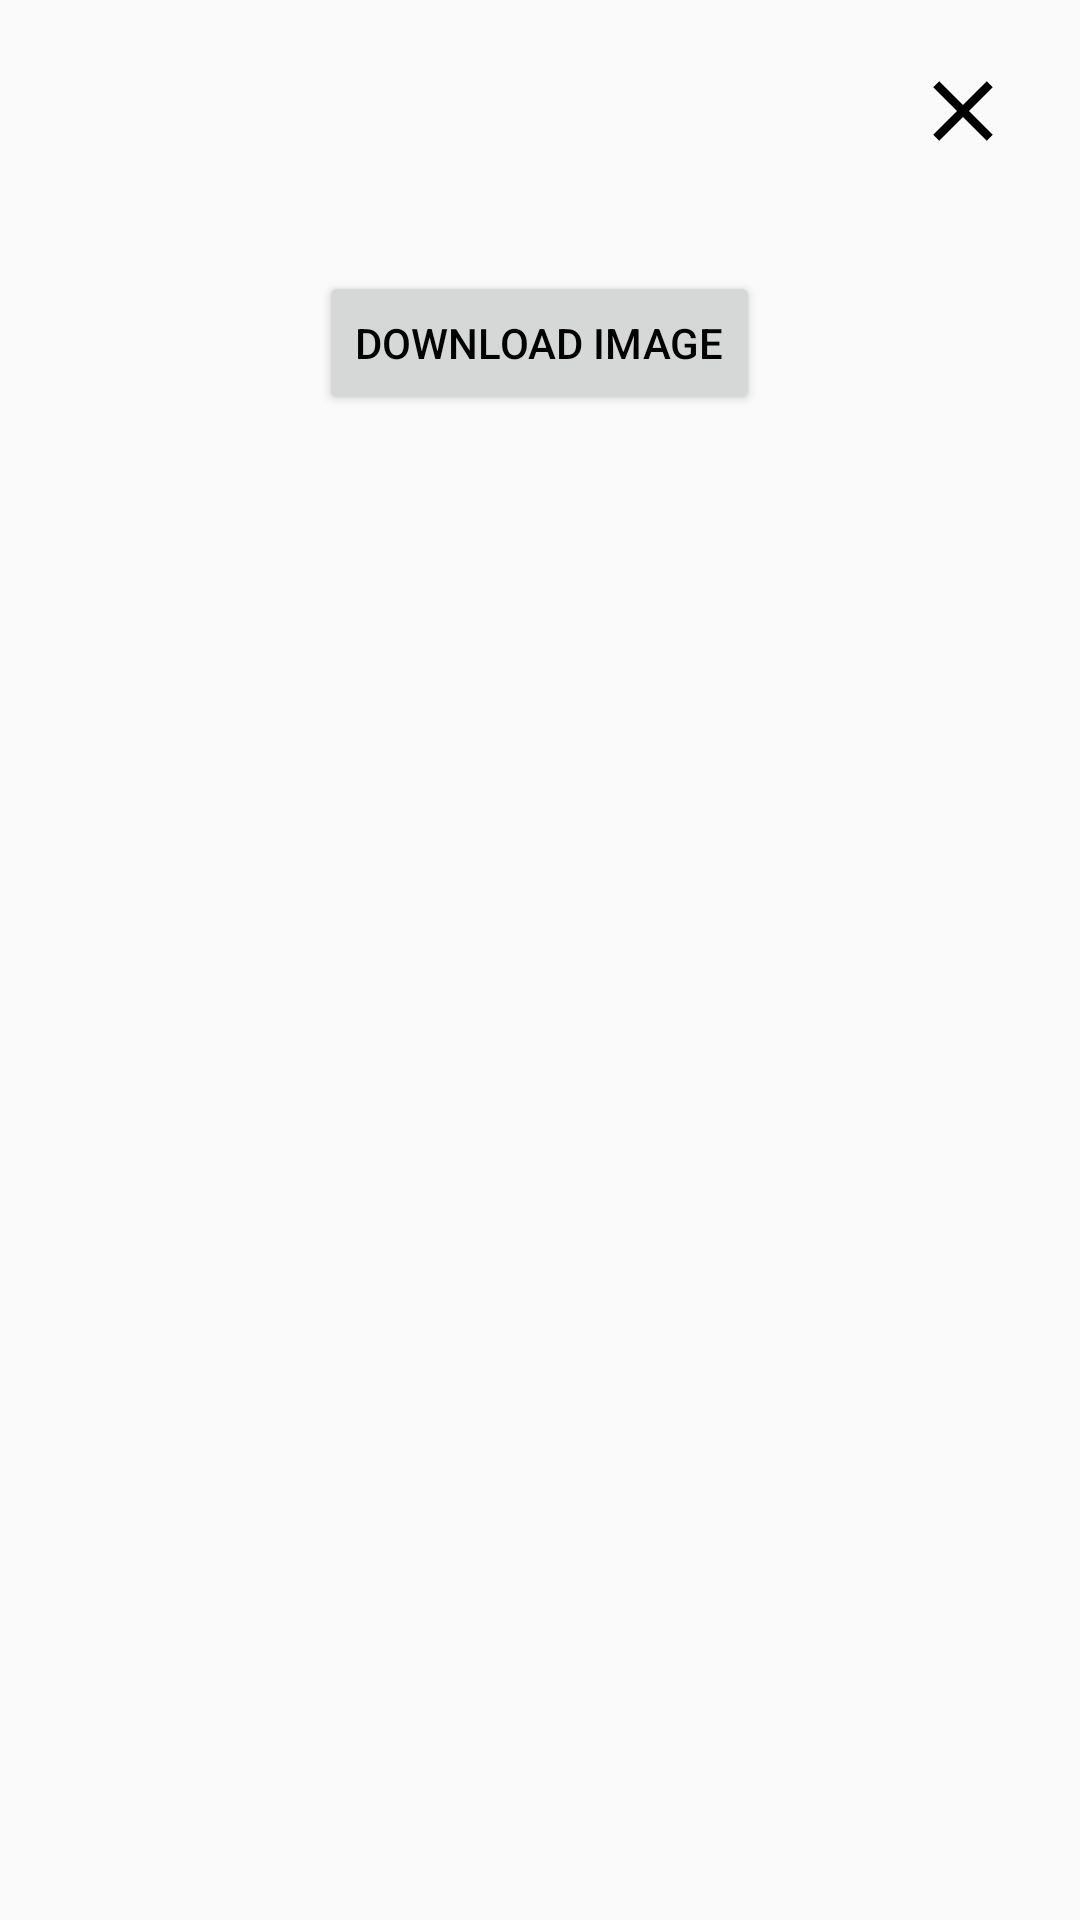

Icon click points for this 1080×1920 phone screenshot, format [x,y]:
Close: [963,111]
